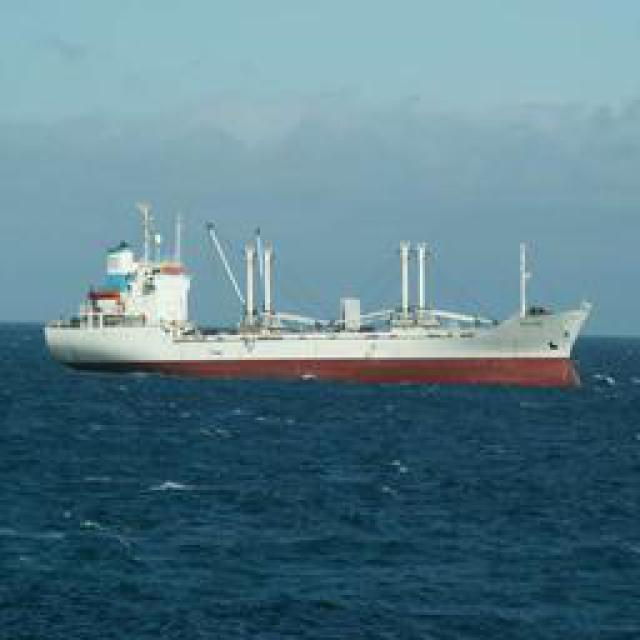Ship: (47, 208, 585, 383)
